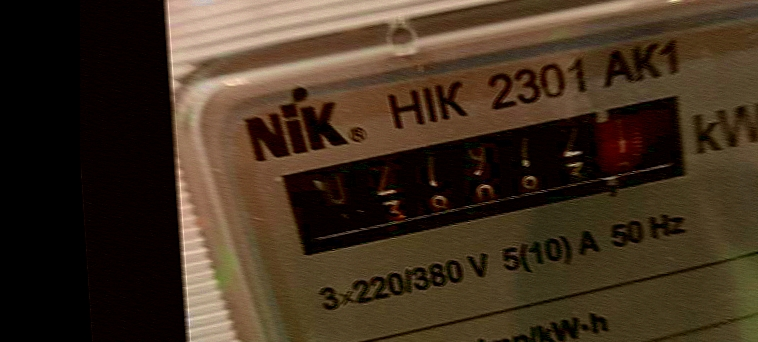0: (320, 169, 351, 206)
1: (610, 113, 635, 157)
2: (369, 156, 400, 197), (557, 120, 587, 159)
7: (510, 128, 539, 171), (418, 150, 444, 189)
9: (465, 140, 493, 177)
screen: (262, 83, 724, 267)
